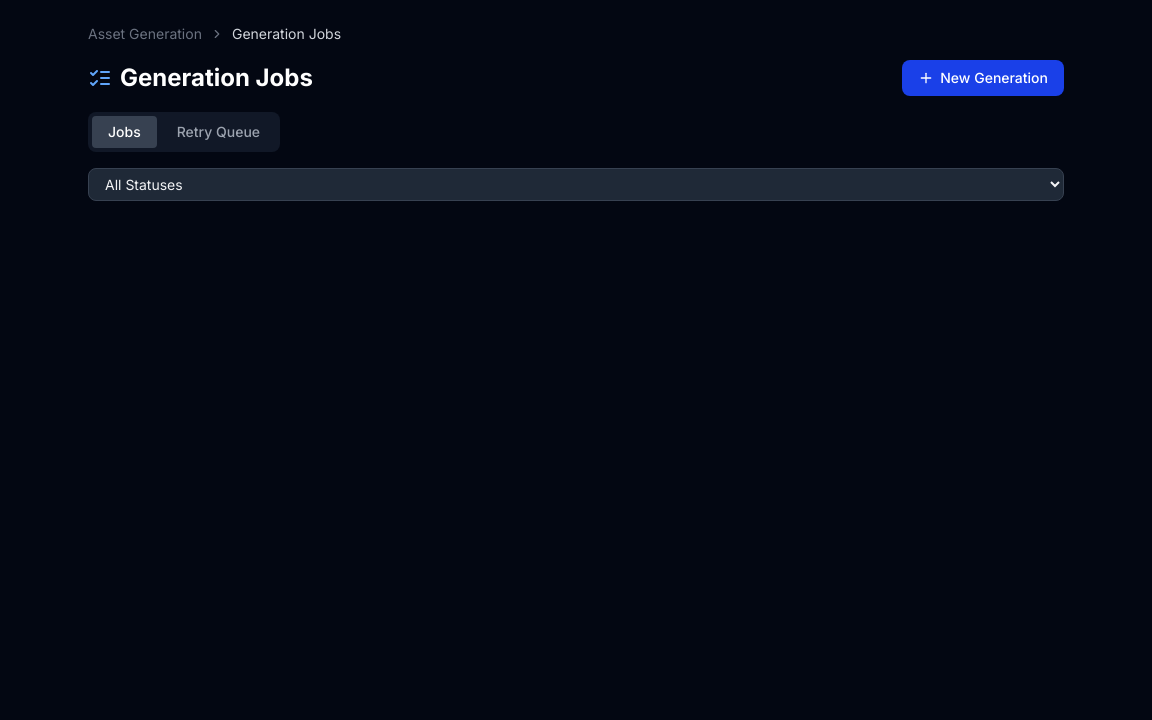
GenerationJobsPage › opens the generation modal when New Generation is clicked
Click the button with test id "new-generation-btn": (983, 78) [902,60,1064,96]
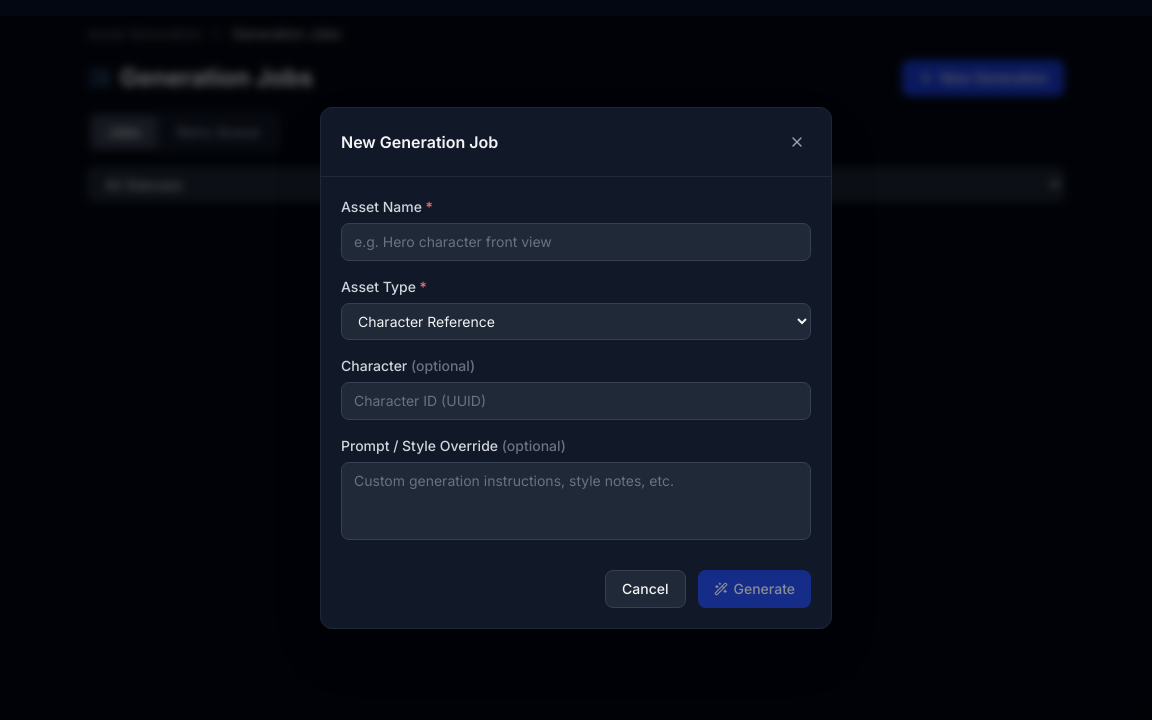
Expected: the heading "New Generation Job" is shown, [341,130,498,154]
